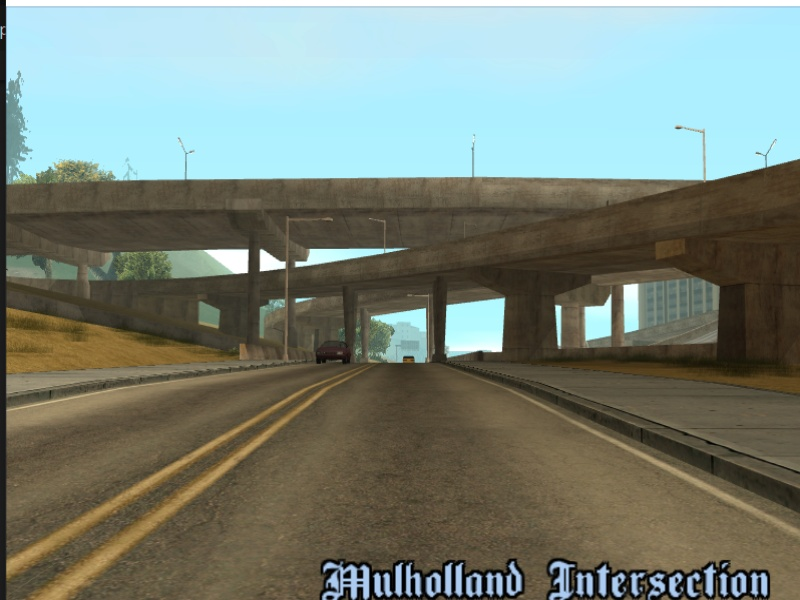pole: (279, 216, 299, 364), (424, 292, 434, 362)
vehicle: (314, 339, 354, 367), (401, 354, 416, 367)
